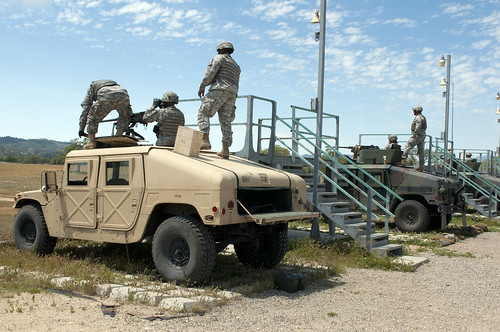sky: (1, 1, 495, 142)
soldier: (192, 32, 245, 160), (69, 75, 143, 142), (138, 85, 193, 147), (405, 101, 426, 167)
truck: (7, 145, 312, 283), (329, 161, 467, 231)
